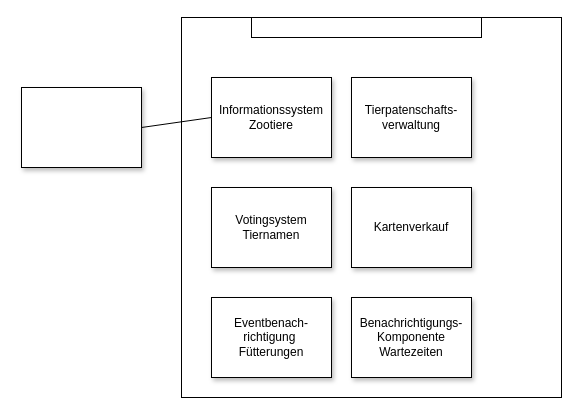
The diagram is 579 pixels wide and 415 high, and some of its shapes have lost their labels. The shapes that lost their labels are listed below. From the top down, each one's centre as x and y in pixels, then its label:
the point at 366,27: interaktive Zoo-Erlebnisapp
the point at 82,128: Tierart-Informationssystem der Universität
